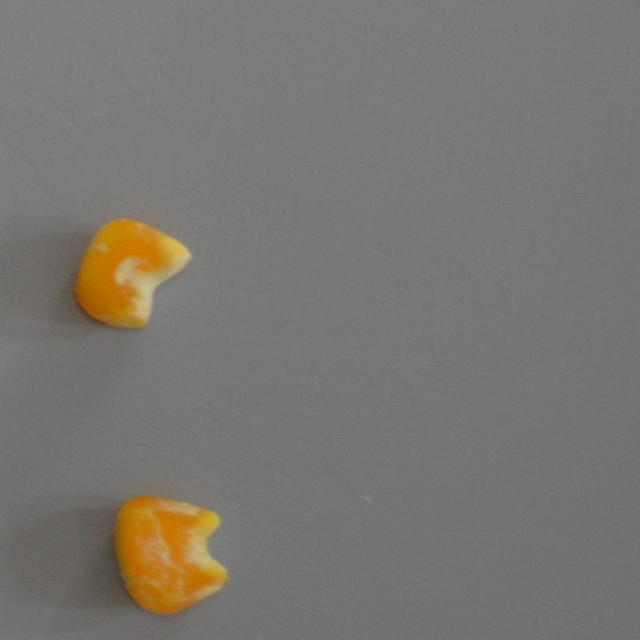pelicula: (110, 490, 232, 618), (70, 212, 194, 332)
